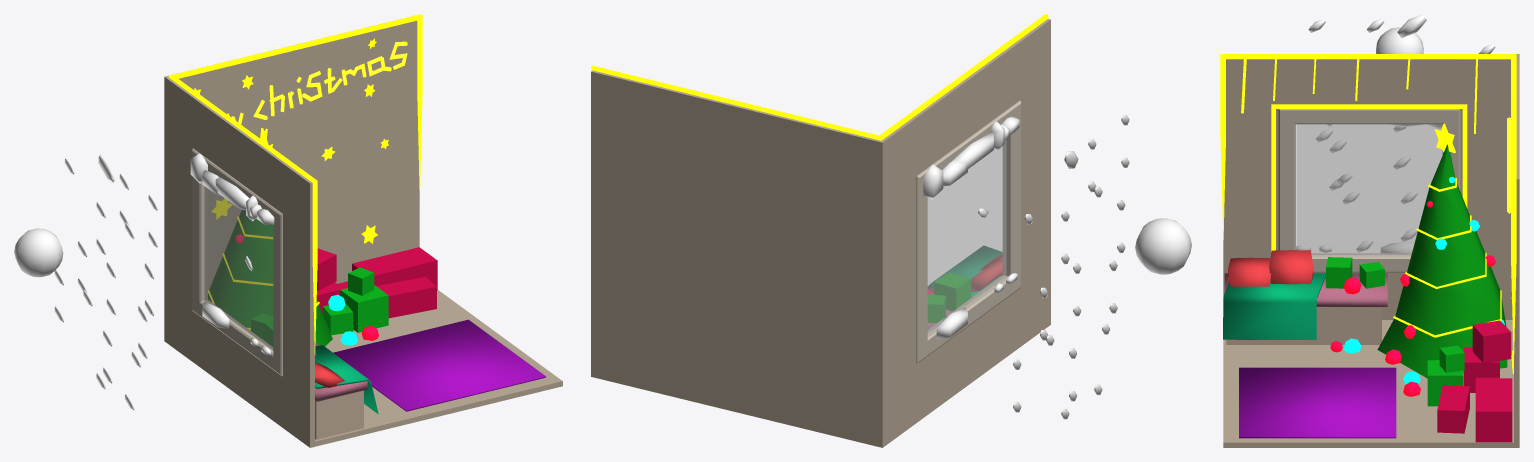
File: holiday-scene-christmas-night.fbx
3 views of the same model, side by side, from view 1: azimuth 30°, elevation 25°; view 2: azimuth 150°, elevation 25°; view 3: azimuth 270°, elevation 25° (orthographic). The views are drawn at different scales.
Parts seen in each view (by area): view 1: 194, 3, 73, 207, 85, 144, 168, 109, 120, 38, 51, 14 (+3 smaller); view 2: 194, 73, 207, 168, 109, 38, 120, 27, 98; view 3: 194, 73, 85, 3, 109, 207, 144, 27, 120, 51, 98, 168 (+6 smaller).
Boxes of the visible parts, left/top/right/bottom form: 194: left=164, top=20, right=562, bottom=447; 3: left=333, top=319, right=545, bottom=411; 73: left=204, top=187, right=273, bottom=349; 207: left=192, top=148, right=282, bottom=376; 85: left=208, top=210, right=332, bottom=346; 144: left=316, top=247, right=437, bottom=318; 168: left=54, top=153, right=274, bottom=410; 109: left=168, top=14, right=422, bottom=355; 120: left=251, top=267, right=388, bottom=346; 38: left=14, top=228, right=63, bottom=277; 51: left=315, top=390, right=363, bottom=439; 14: left=227, top=41, right=407, bottom=124; 194: left=591, top=19, right=1050, bottom=447; 73: left=927, top=140, right=1006, bottom=333; 207: left=916, top=100, right=1020, bottom=363; 168: left=923, top=115, right=1129, bottom=419; 109: left=591, top=14, right=1048, bottom=140; 38: left=1135, top=218, right=1191, bottom=274; 120: left=928, top=272, right=970, bottom=322; 27: left=928, top=245, right=1002, bottom=297; 98: left=971, top=254, right=1002, bottom=291; 194: left=1223, top=54, right=1519, bottom=447; 73: left=1296, top=124, right=1442, bottom=254; 85: left=1377, top=144, right=1507, bottom=378; 3: left=1239, top=367, right=1396, bottom=438; 109: left=1220, top=54, right=1516, bottom=367; 207: left=1278, top=109, right=1460, bottom=272; 144: left=1437, top=320, right=1512, bottom=442; 27: left=1223, top=273, right=1325, bottom=339; 120: left=1326, top=257, right=1464, bottom=406; 51: left=1226, top=307, right=1381, bottom=344; 98: left=1228, top=250, right=1313, bottom=286; 168: left=1296, top=14, right=1495, bottom=253.
Bounding box in the file's own units: 4439 × 2459 × 2457.
